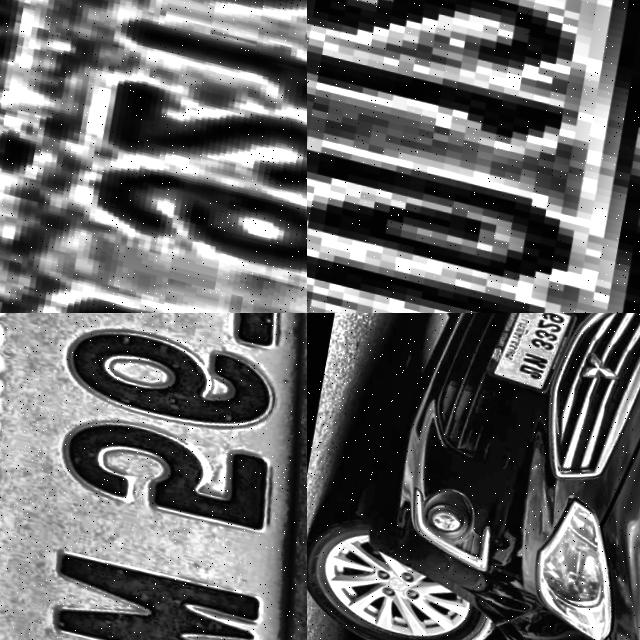license-plate: (307, 0, 640, 313), (0, 313, 307, 640), (0, 0, 307, 313), (480, 313, 576, 393)
